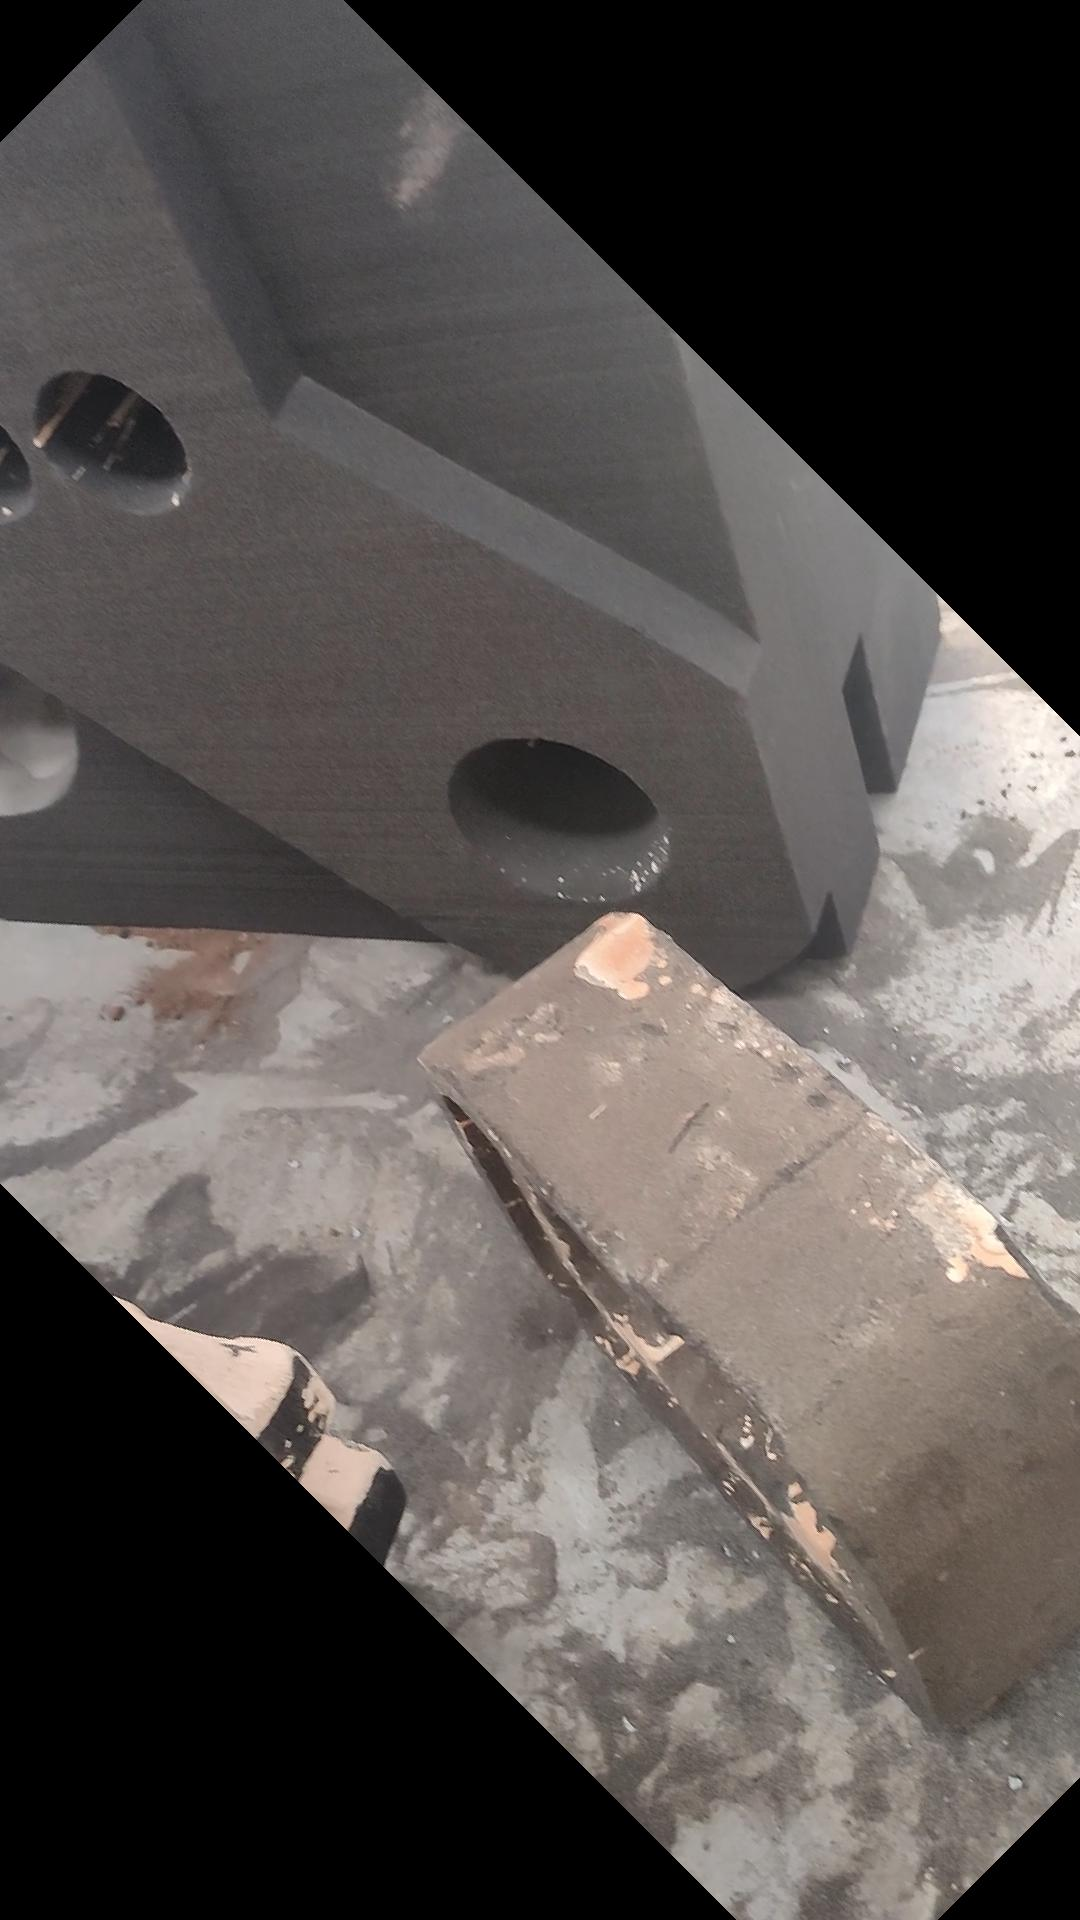pouring hole: (446, 735, 674, 909)
